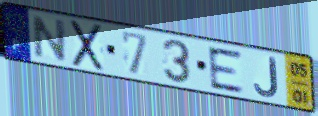3: (160, 38, 192, 86)
7: (120, 29, 150, 77)
E: (205, 45, 247, 95)
J: (253, 56, 281, 100)
N: (32, 13, 68, 64)
X: (69, 18, 105, 73)
